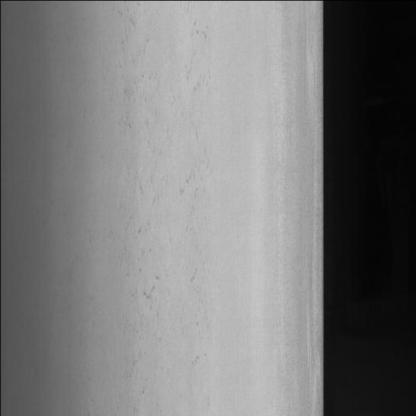silk_spot: (111, 20, 212, 354)
